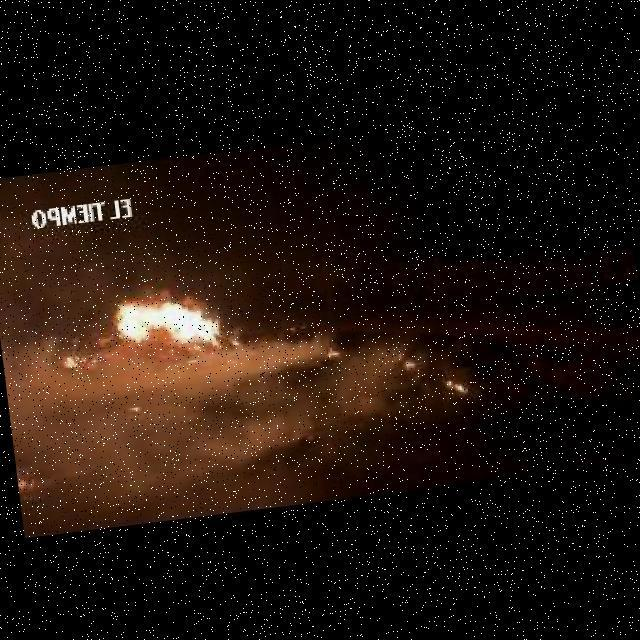Fire: (106, 284, 252, 374), (444, 377, 468, 396), (61, 352, 76, 366), (325, 343, 338, 356), (127, 401, 142, 411), (21, 475, 31, 490), (404, 357, 415, 370)
